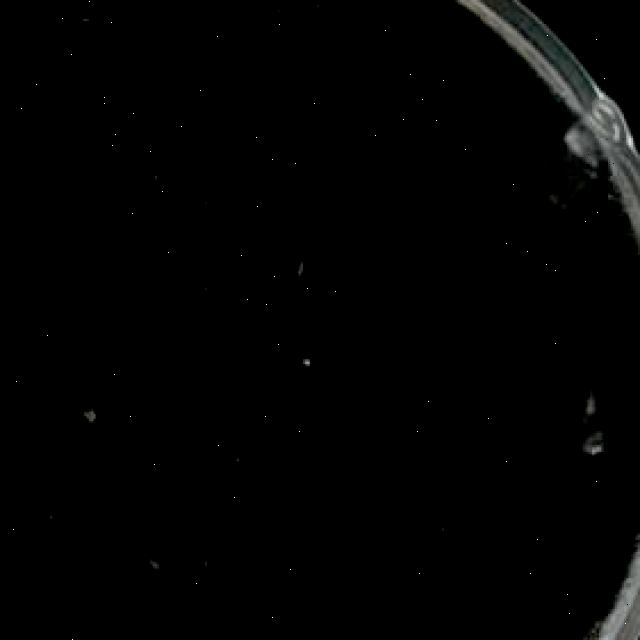Microplastic: (533, 78, 619, 212)
